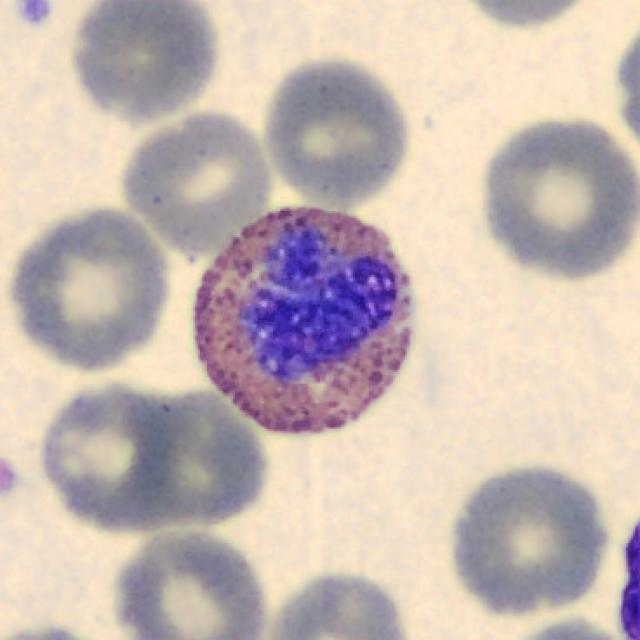Eosinofilo: (193, 208, 416, 438)
